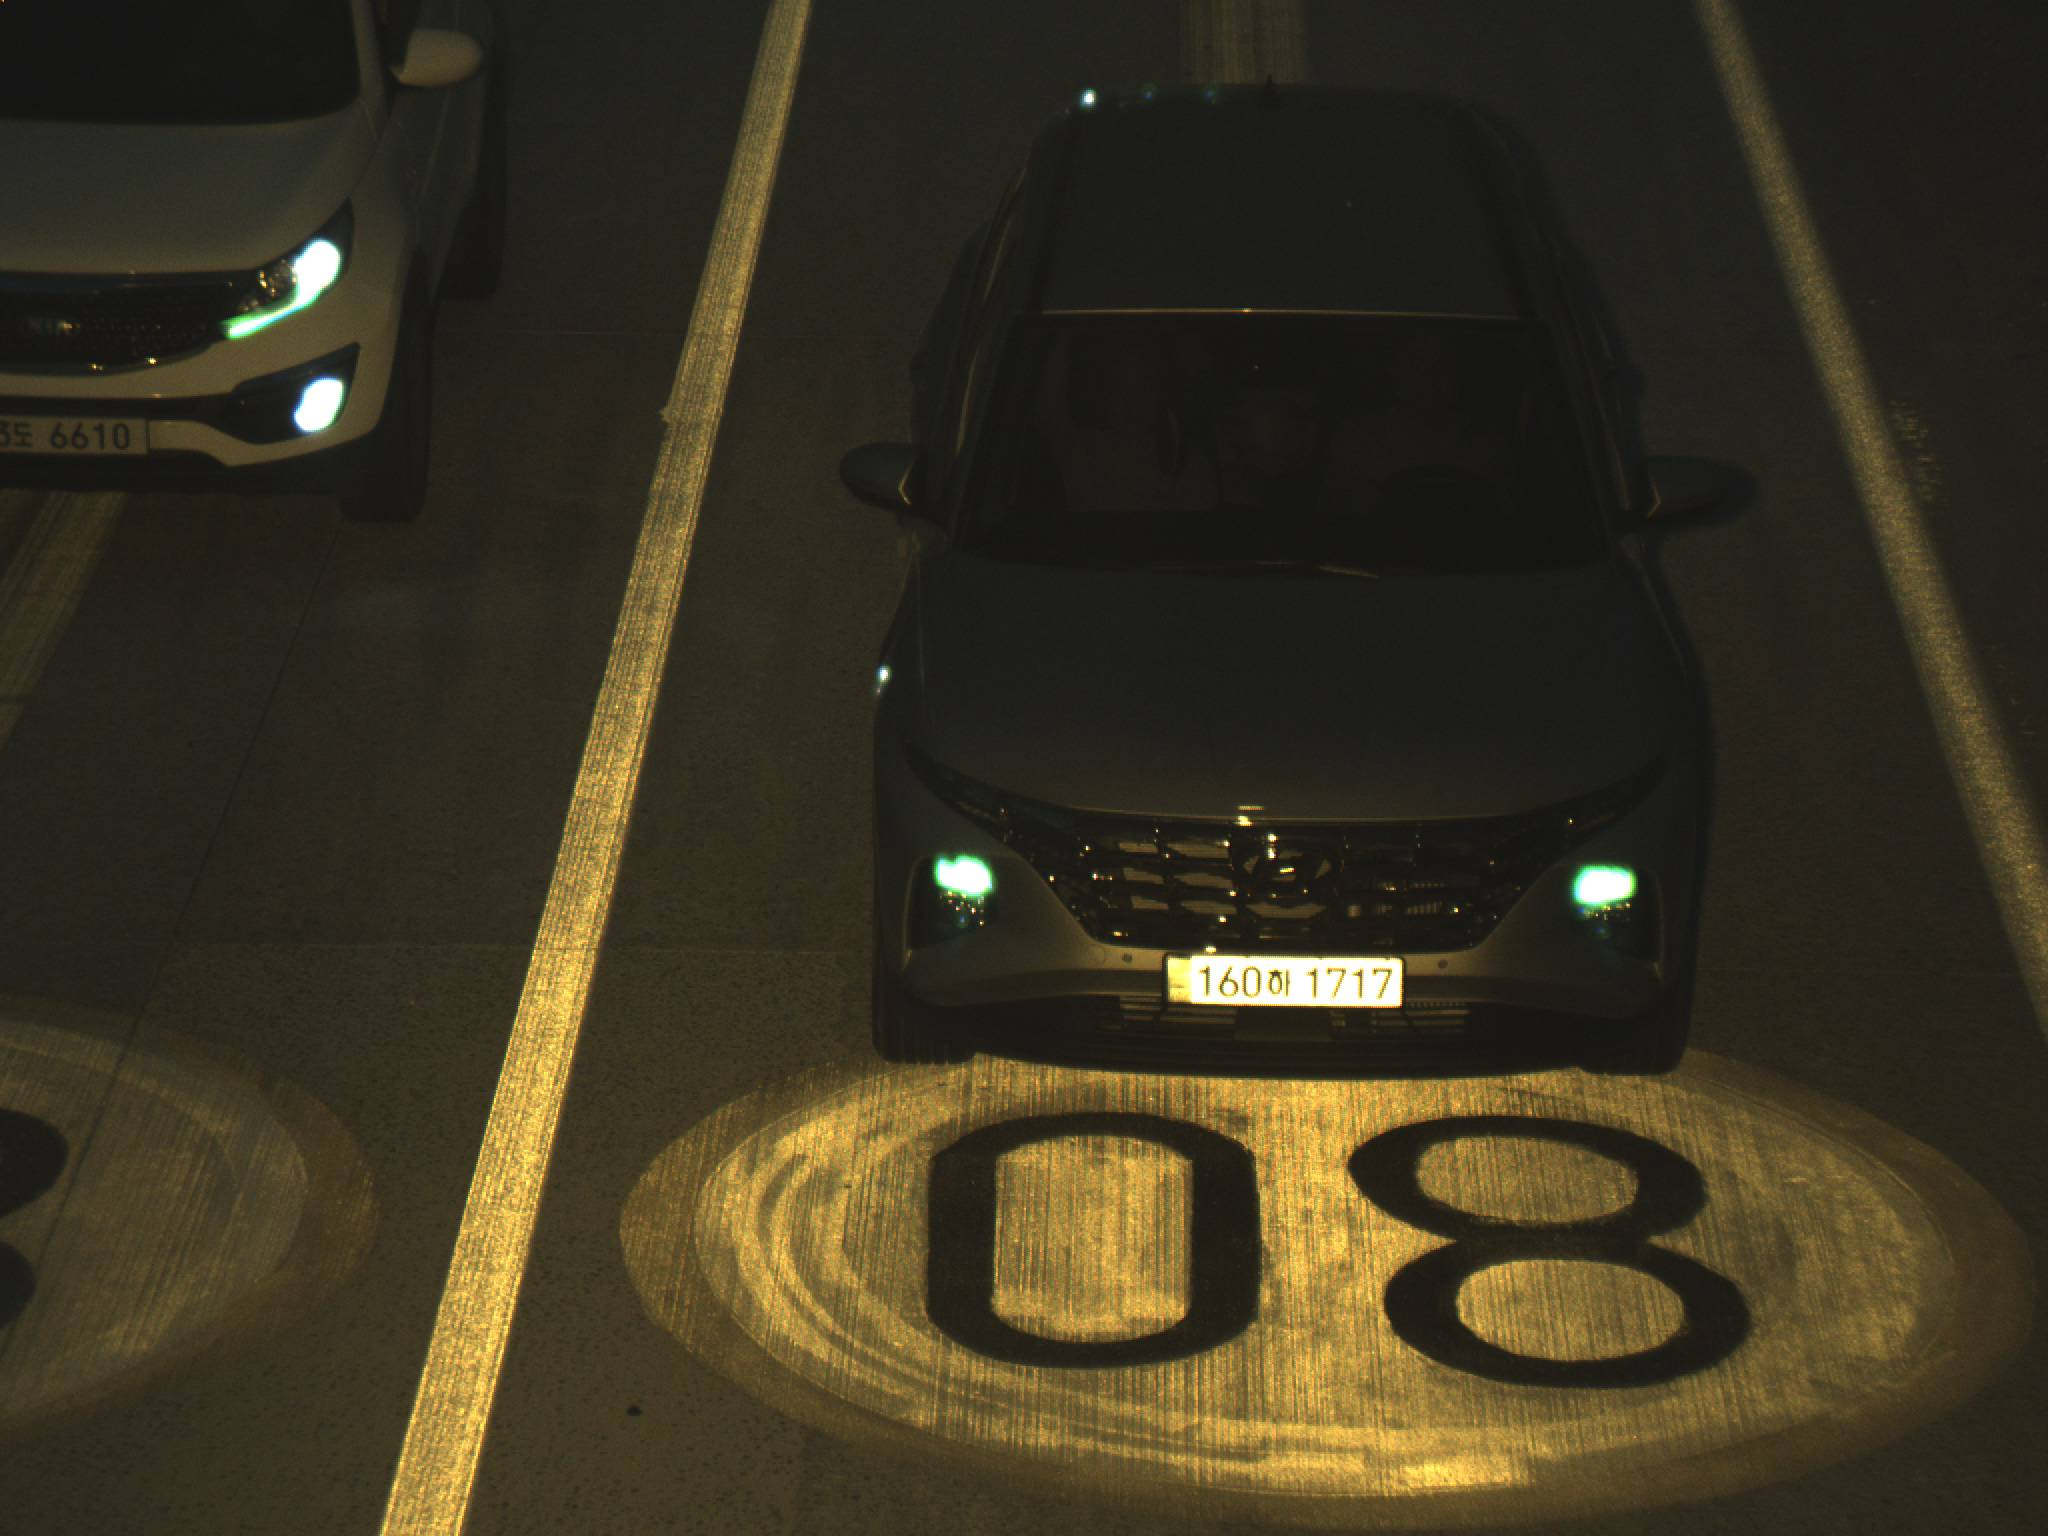car: (825, 74, 1772, 1089), (1, 1, 514, 532)
plate: (1161, 949, 1404, 1009), (1, 413, 150, 462)
